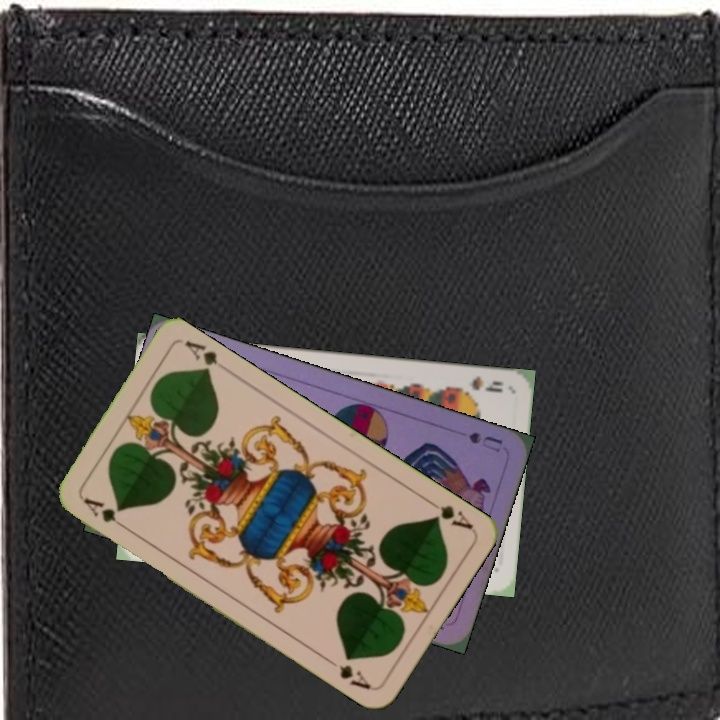GA: (422, 494, 475, 532), (80, 494, 129, 533)
S9: (448, 372, 506, 398)
SU: (465, 428, 505, 455)
